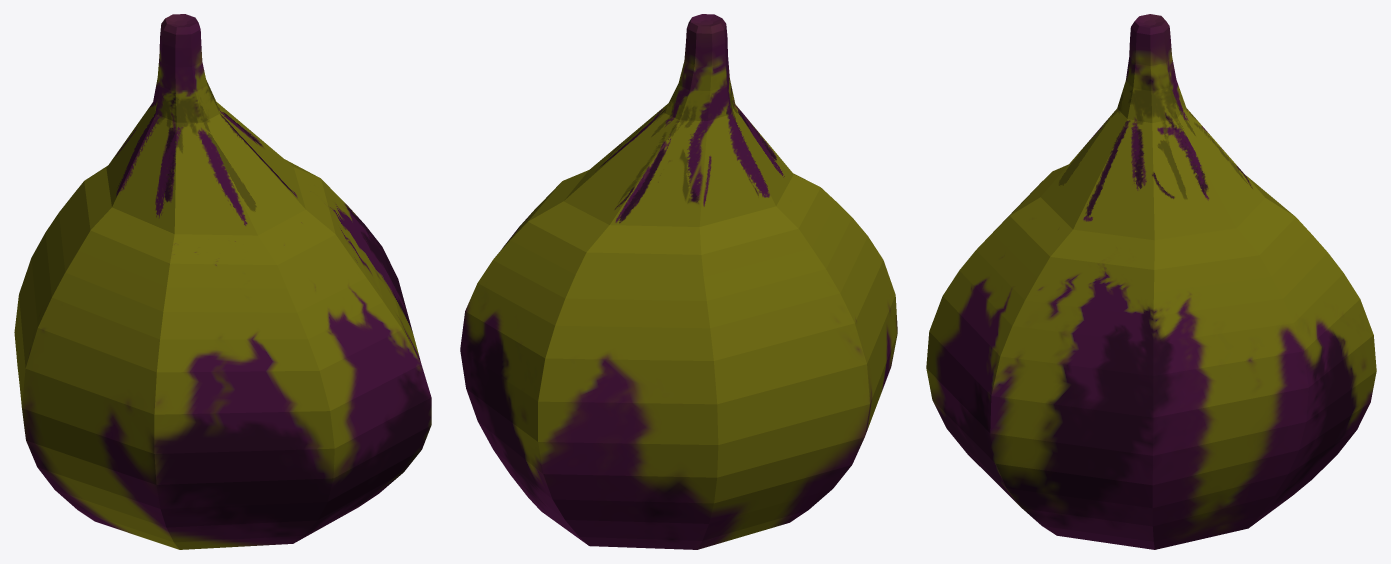
The model's file is Fico.fbx.
The picture shows the model from 3 angles, left to right: view 1: azimuth 30°, elevation 25°; view 2: azimuth 150°, elevation 25°; view 3: azimuth 270°, elevation 25°; orthographic projection. The views are drawn at different scales.
Visible parts, largest first — view 1: Fico; view 2: Fico; view 3: Fico.
Boxes of the visible parts, x1,y1,x2,y2 form: Fico: (14,14,431,549); Fico: (460,14,897,549); Fico: (926,14,1376,549).
Bounding box in the file's own units: 83.47 × 101 × 89.14.
